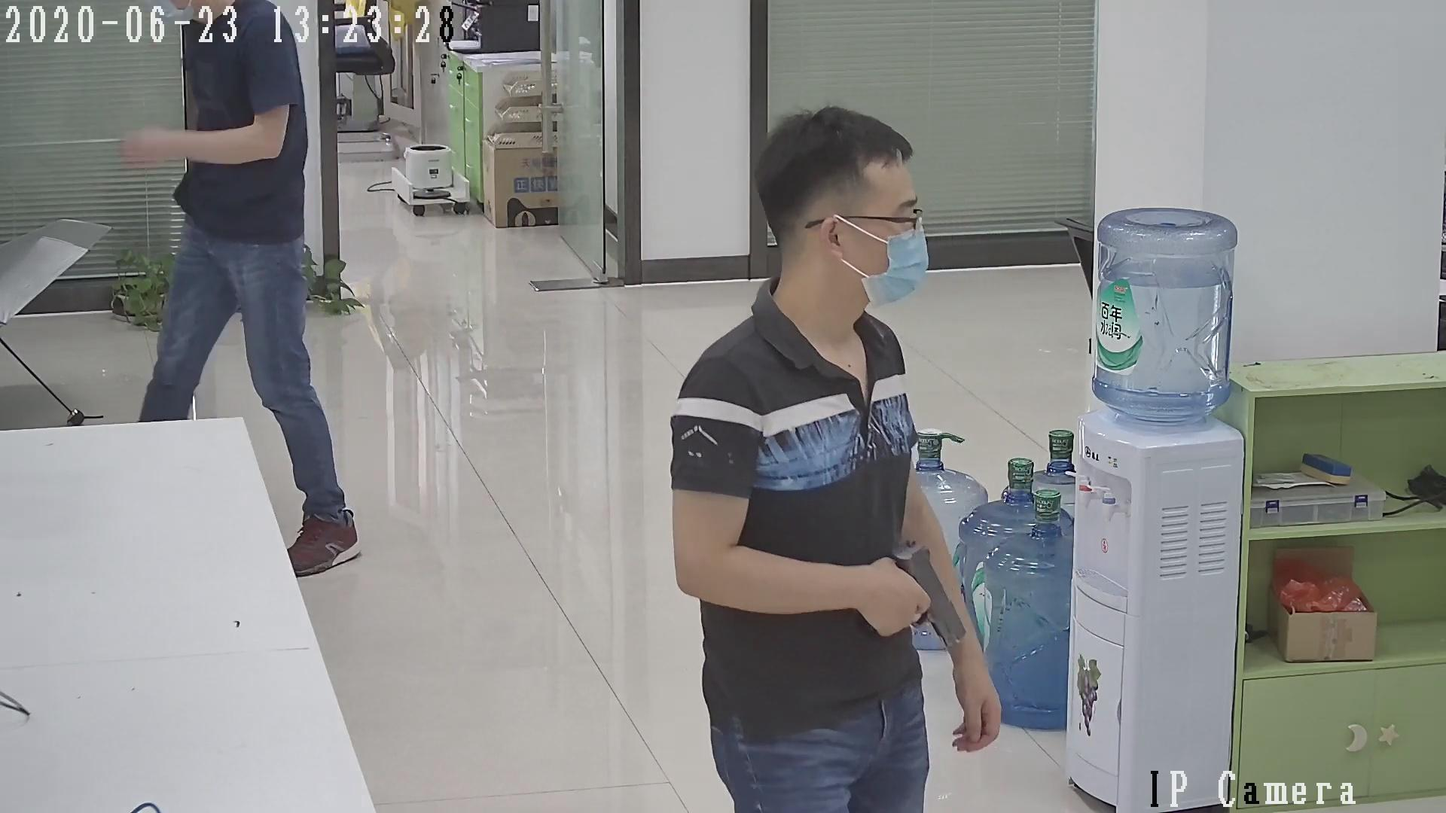gun: (862, 534, 975, 650)
